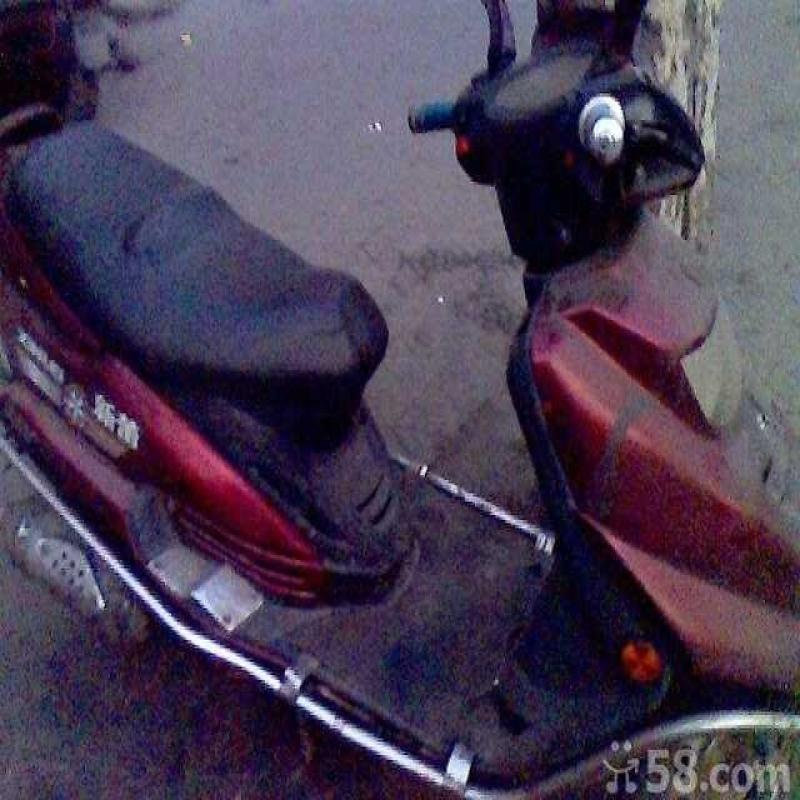bike: (20, 8, 800, 800)
